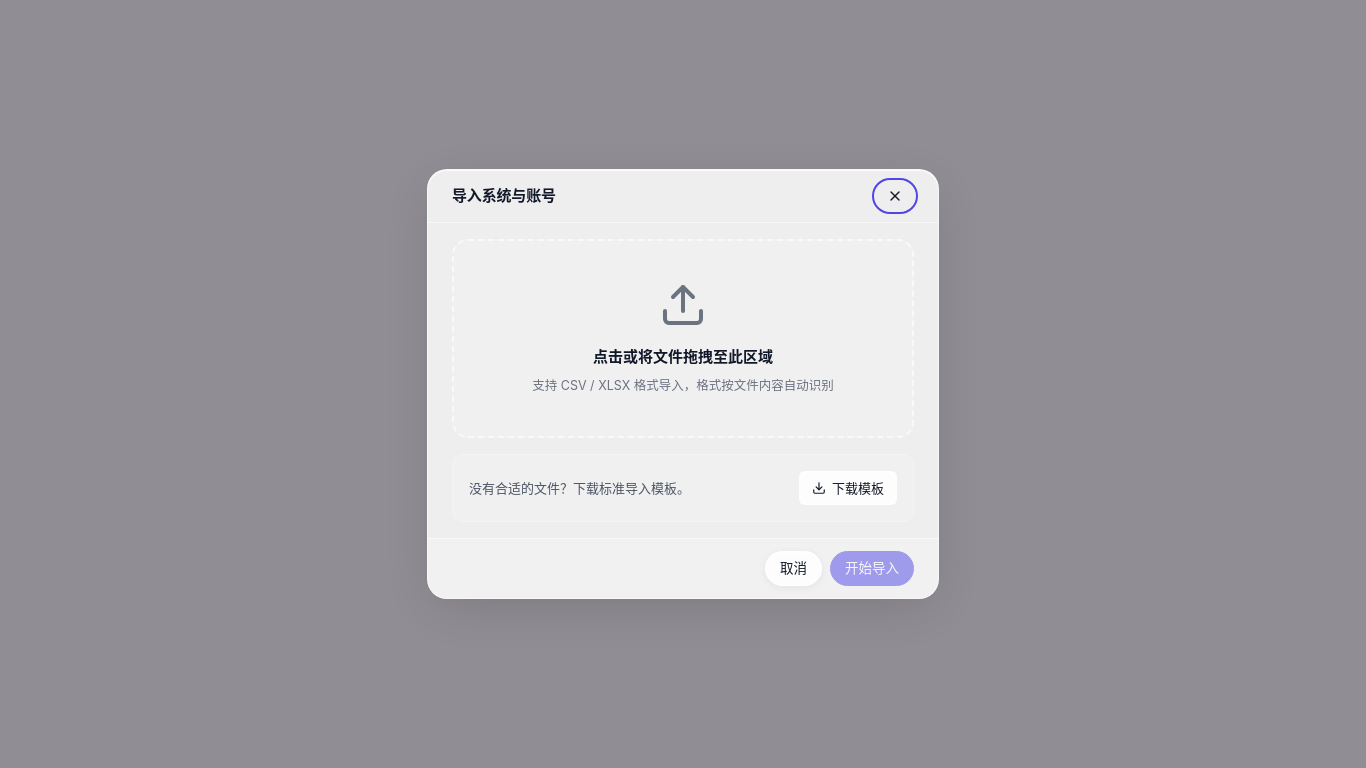
Test: 导入面（原型 819-841） › 识别失败时文件名仍留在框里：报错要说得出是哪一份出的问题
This screenshot has width=1366, height=768.
Step 1. Click the button with aria-label "选择要导入的 CSV 或 Excel 文件" → coordinates (683, 305), box [452,239,914,438]
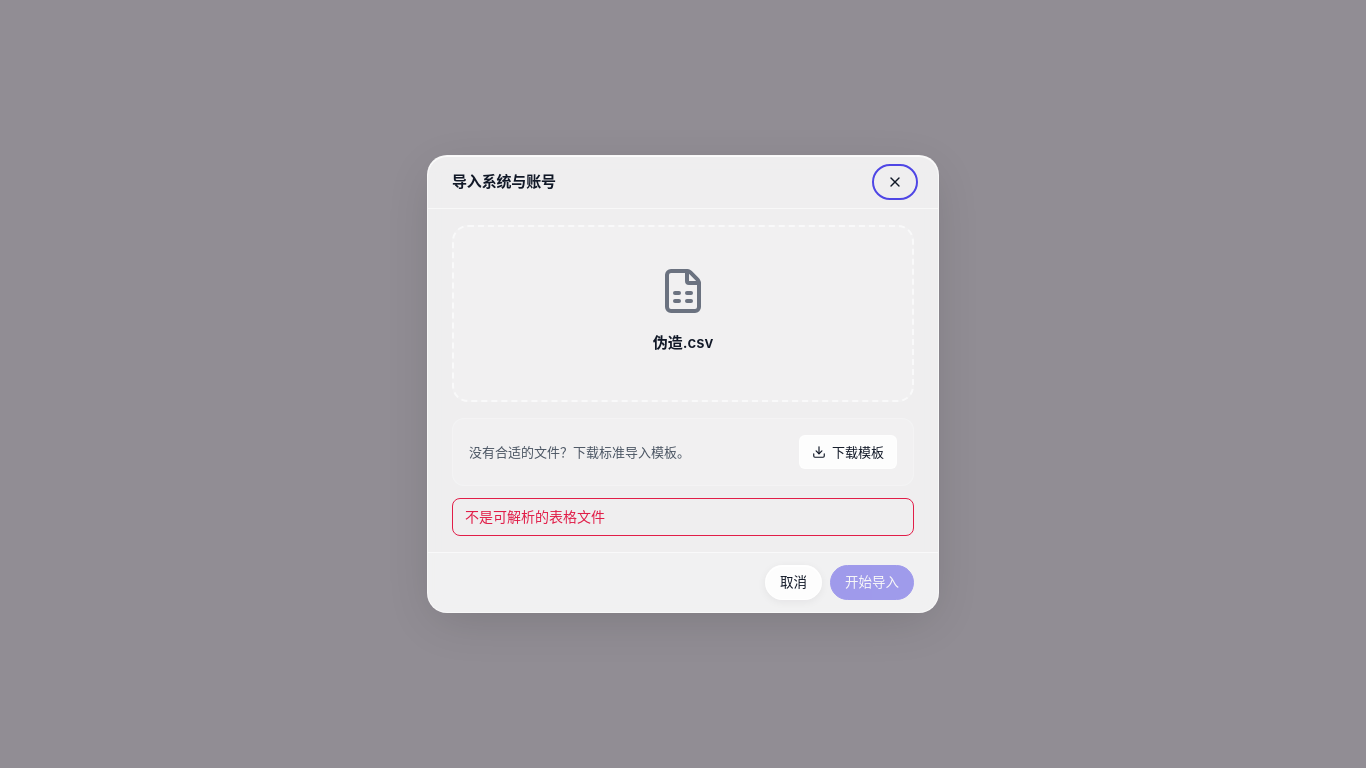
Now the text "不是可解析的表格文件" is shown, box [452,498,914,536]
Now the button with aria-label "已选择 伪造.csv" is shown, box [452,225,914,402]
